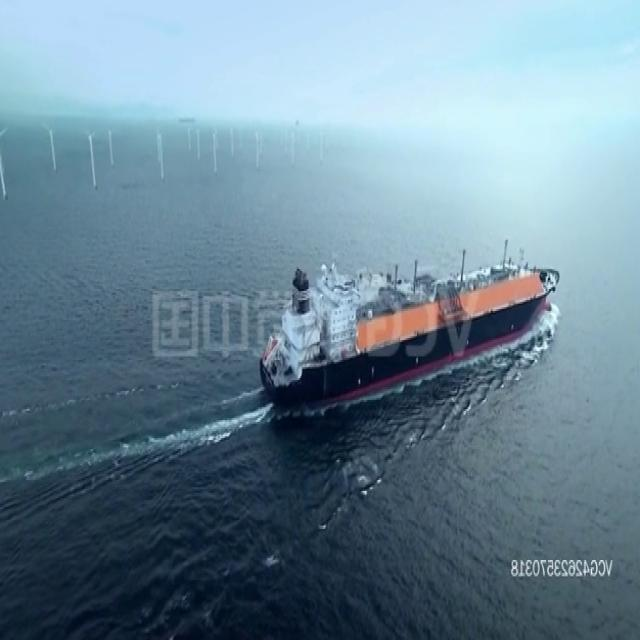cargoship: (262, 242, 556, 408)
